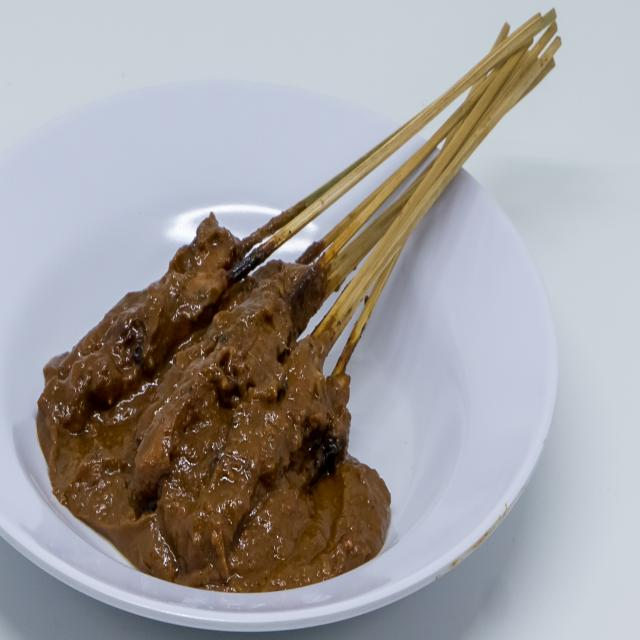Sate-Ayam: (34, 148, 422, 570)
